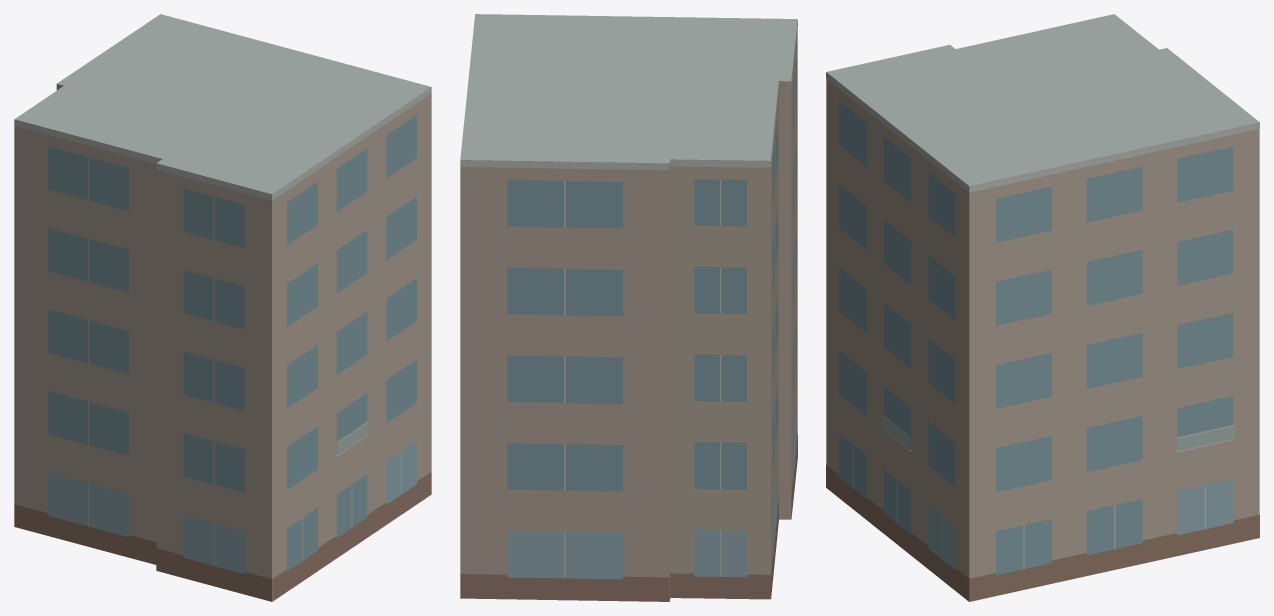
File: survey-upis-32772696.glb
3 renders of one model, left to right at view 1: azimuth 30°, elevation 25°; view 2: azimuth 150°, elevation 25°; view 3: azimuth 270°, elevation 25°, orthographic. The views are drawn at different scales.
Visible parts, largest first — view 1: survey-upis-32772696.tmp; view 2: survey-upis-32772696.tmp; view 3: survey-upis-32772696.tmp.
Boxes of the visible parts, x1,y1,x2,y2 form: survey-upis-32772696.tmp: (14,14,431,601); survey-upis-32772696.tmp: (460,14,797,601); survey-upis-32772696.tmp: (826,14,1259,601).
Size of the model in its own units: 13.69 by 15.4 by 14.57.
